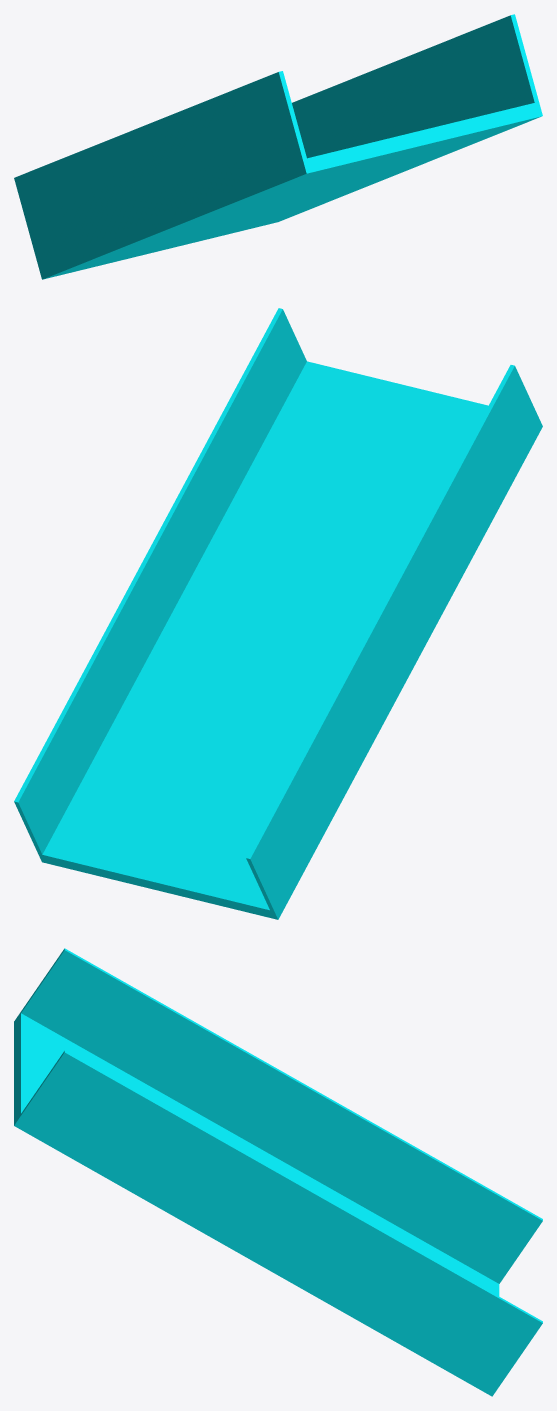
File: climb-skin-12.glb
The picture shows the model from 3 angles, top to bottom: view 1: azimuth 30°, elevation 25°; view 2: azimuth 150°, elevation 25°; view 3: azimuth 270°, elevation 25°; orthographic projection. The views are drawn at different scales.
Visible parts, largest first — view 1: climb-skin-12; view 2: climb-skin-12; view 3: climb-skin-12.
Part boxes in pixels (left/top/right/bottom): climb-skin-12: left=14, top=14, right=542, bottom=279; climb-skin-12: left=14, top=308, right=542, bottom=919; climb-skin-12: left=14, top=948, right=542, bottom=1396.
Size of the model in its own units: 3.3 by 5.09 by 7.08.
